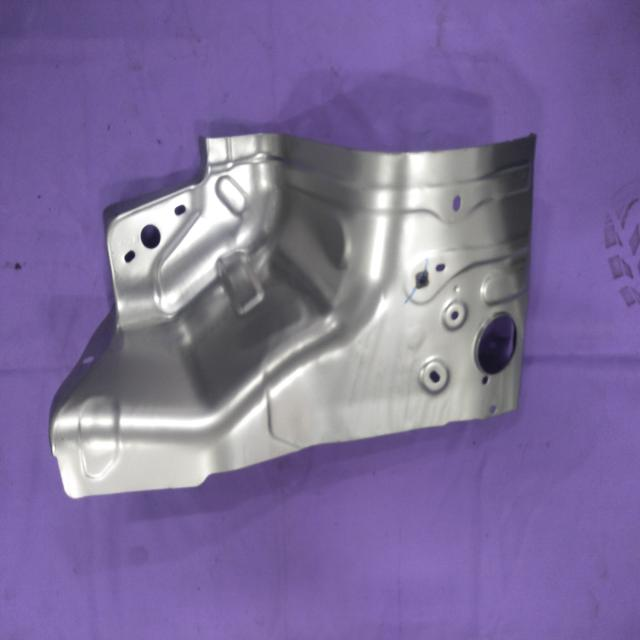Healthy: (48, 125, 538, 500)
